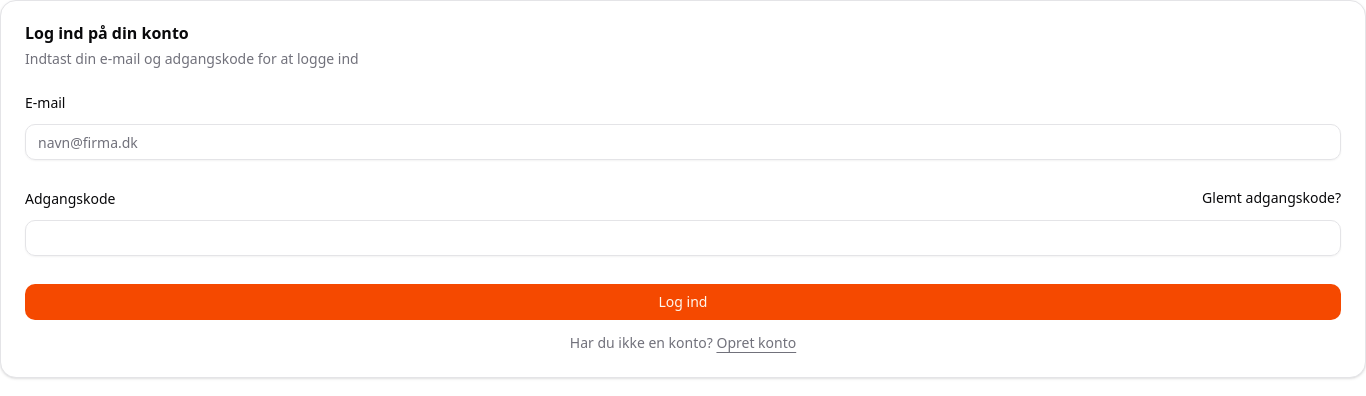
it: LoginForm › shows loading indicator during submission
The image size is (1366, 396).
Type "test@example.com" into the field labelled "E-mail" at (683, 142), box x1=25 y1=124 x2=1341 y2=160
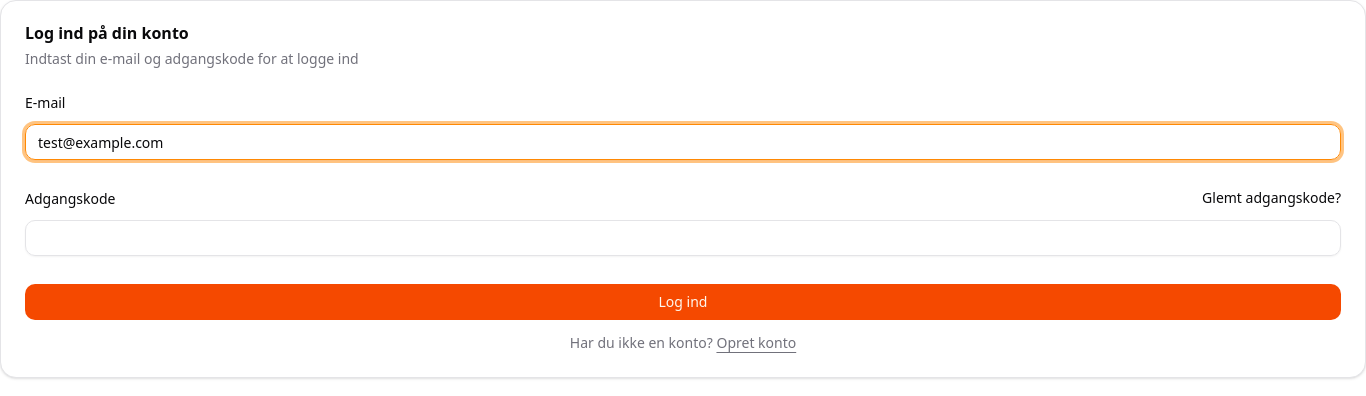
Type "password123" into the password field labelled "Adgangskode" at (683, 238), box x1=25 y1=220 x2=1341 y2=256
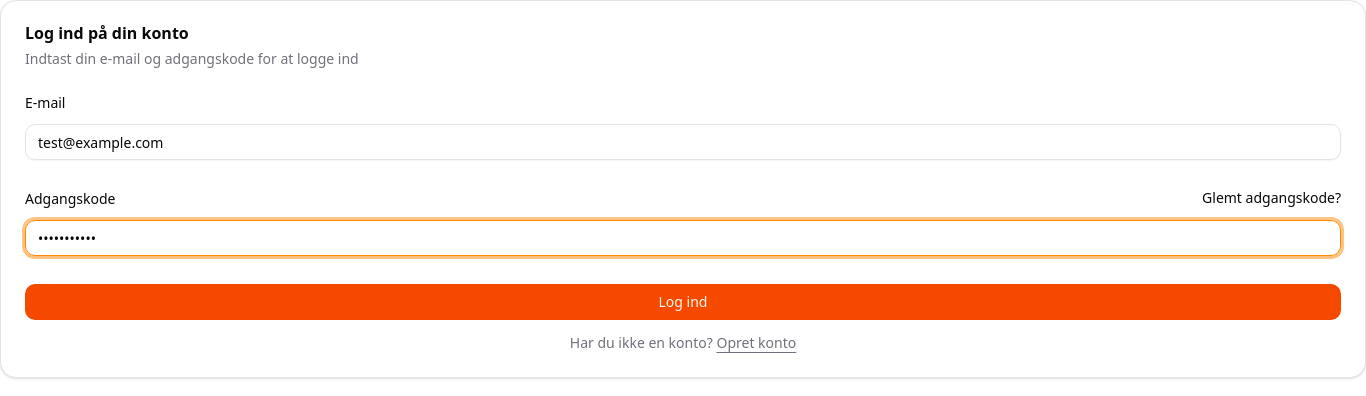
Click the button "Log ind" at (683, 302), box x1=25 y1=284 x2=1341 y2=320
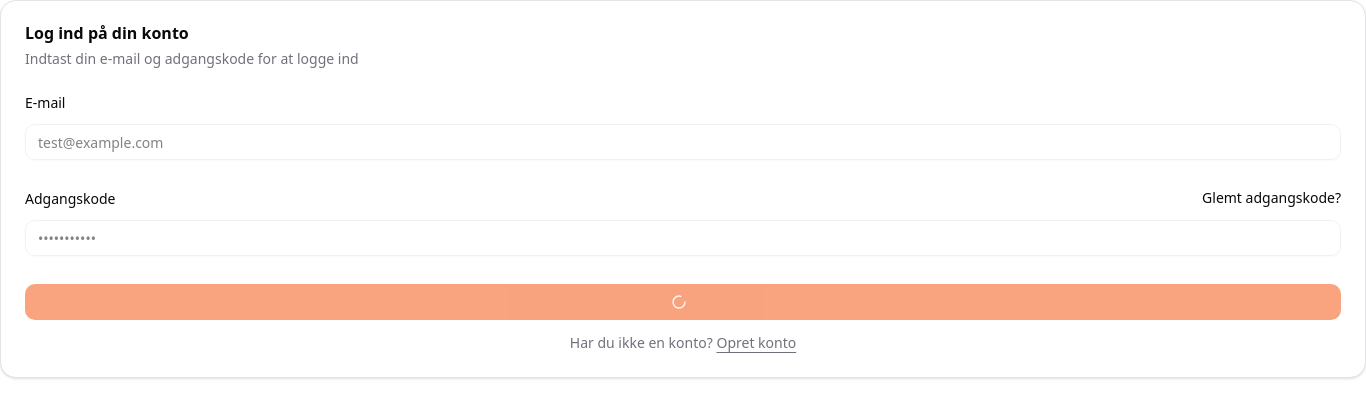
Now the button is disabled, box x1=25 y1=284 x2=1341 y2=320
